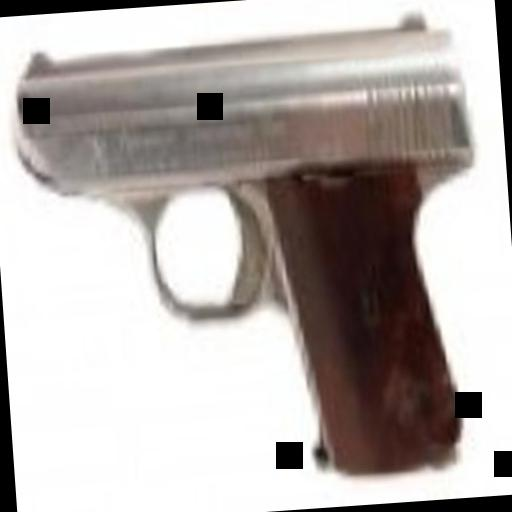Handgun: (18, 4, 503, 500)
